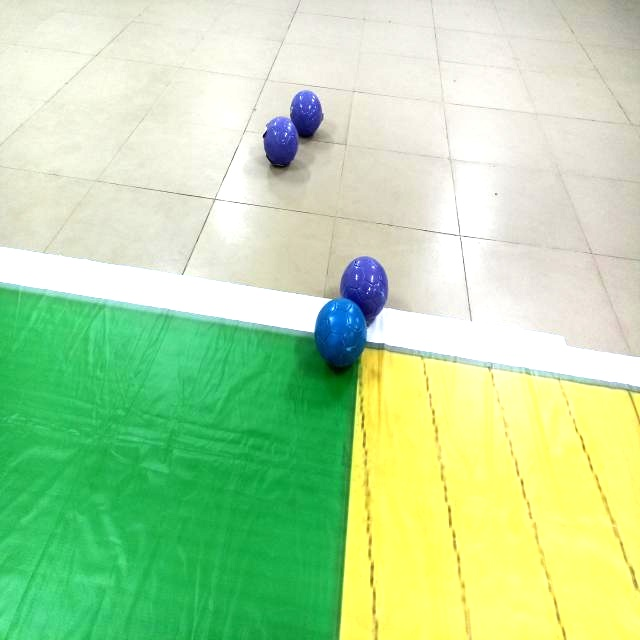blue_ball: (315, 298, 366, 359)
purple_ball: (346, 258, 386, 314), (293, 91, 322, 135), (266, 117, 294, 162)
